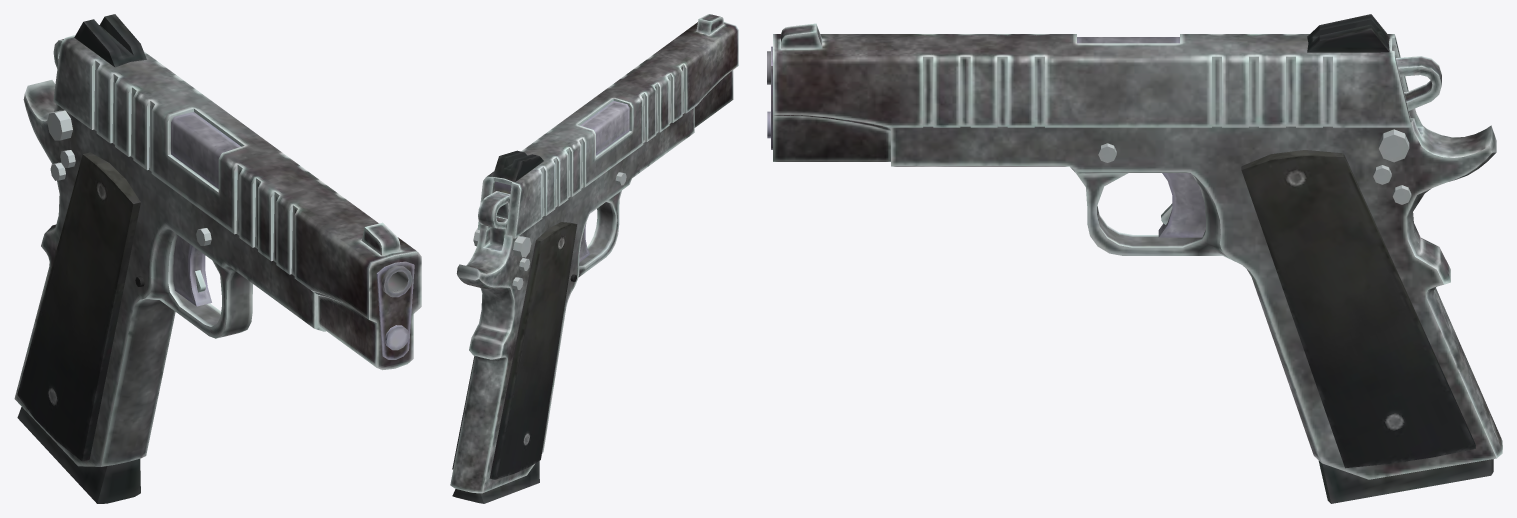
Rendered from pistol.glb.
The picture shows the model from 3 angles, left to right: view 1: azimuth 30°, elevation 25°; view 2: azimuth 150°, elevation 25°; view 3: azimuth 270°, elevation 25°; orthographic projection. The views are drawn at different scales.
Parts seen in each view (by area): view 1: Pistol_Frame, Pistol_Slide, Pistol_Magazine001, Pistol_Slide4, Pistol_Trigger, Pistol_Barrel; view 2: Pistol_Frame, Pistol_Slide, Pistol_Slide4, Pistol_Hammer, Pistol_Magazine001; view 3: Pistol_Frame, Pistol_Slide, Pistol_Magazine001, Pistol_Trigger, Pistol_Hammer.
Boxes of the visible parts, left/top/right/bottom form: Pistol_Frame: left=14, top=80, right=326, bottom=466; Pistol_Slide: left=53, top=14, right=421, bottom=370; Pistol_Magazine001: left=17, top=407, right=140, bottom=503; Pistol_Slide4: left=171, top=112, right=240, bottom=188; Pistol_Trigger: left=173, top=235, right=211, bottom=306; Pistol_Barrel: left=381, top=265, right=412, bottom=297; Pistol_Frame: left=450, top=107, right=694, bottom=493; Pistol_Slide: left=477, top=14, right=738, bottom=238; Pistol_Slide4: left=580, top=101, right=629, bottom=155; Pistol_Hammer: left=478, top=191, right=510, bottom=246; Pistol_Magazine001: left=452, top=461, right=539, bottom=503; Pistol_Frame: left=891, top=108, right=1502, bottom=479; Pistol_Slide: left=767, top=14, right=1411, bottom=161; Pistol_Magazine001: left=1318, top=459, right=1493, bottom=503; Pistol_Trigger: left=1158, top=173, right=1205, bottom=237; Pistol_Hammer: left=1396, top=56, right=1441, bottom=110.
Size of the model in its own units: 0.0239 by 0.1528 by 0.216.
1 material, 1 textured.
